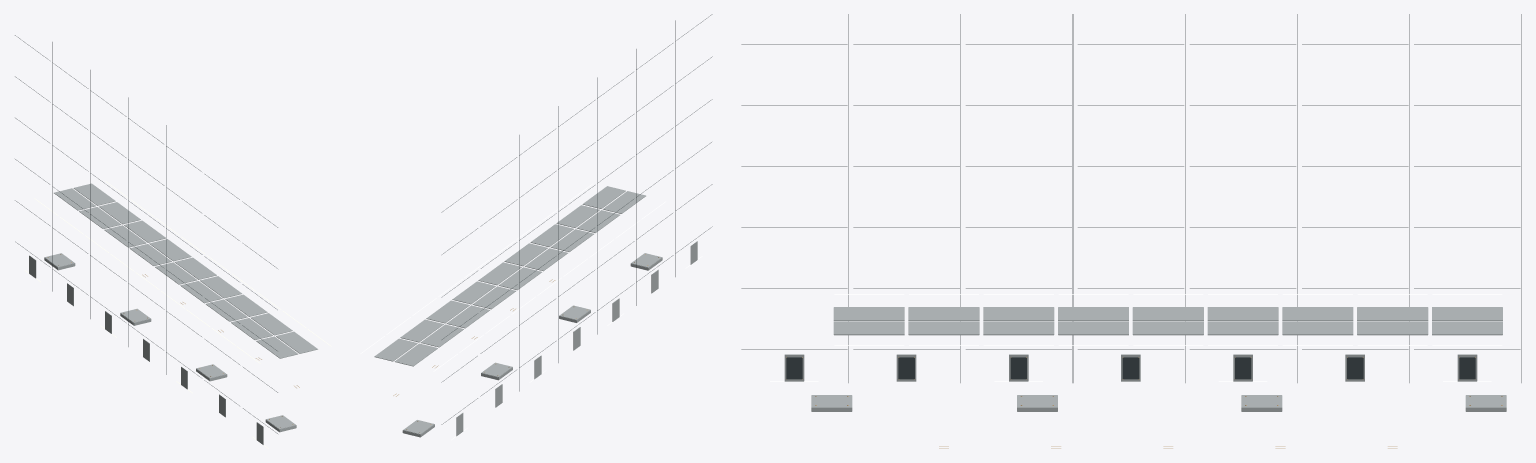
File: A-gallery-west.glb
3 renders of one model, left to right at view 1: azimuth 30°, elevation 25°; view 2: azimuth 150°, elevation 25°; view 3: azimuth 270°, elevation 25°, orthographic. The views are drawn at different scales.
Visible parts, largest first — view 1: A-gallery-west-metal, A-gallery-west-basalt, A-gallery-west-luminous; view 2: A-gallery-west-metal, A-gallery-west-basalt, A-gallery-west-luminous; view 3: A-gallery-west-metal, A-gallery-west-basalt, A-gallery-west-luminous.
Part boxes in pixels (box(x1,y1,x2,y2)): A-gallery-west-metal: box(29, 183, 317, 444); A-gallery-west-basalt: box(15, 35, 277, 433); A-gallery-west-luminous: box(24, 181, 331, 448); A-gallery-west-metal: box(374, 186, 697, 437); A-gallery-west-basalt: box(441, 14, 712, 424); A-gallery-west-luminous: box(360, 183, 702, 440); A-gallery-west-metal: box(784, 307, 1506, 411); A-gallery-west-basalt: box(741, 14, 1521, 396); A-gallery-west-luminous: box(770, 294, 1502, 381).
Bounding box in the file's own units: 8.12 × 21.9 × 41.76.
